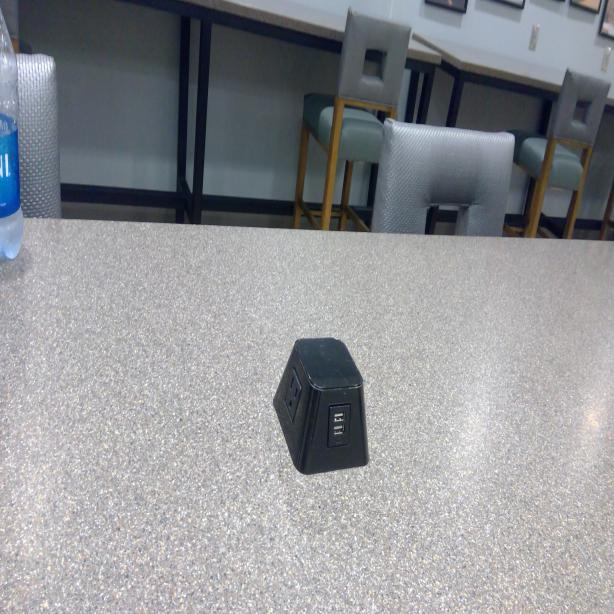typeb: (286, 376, 303, 412)
